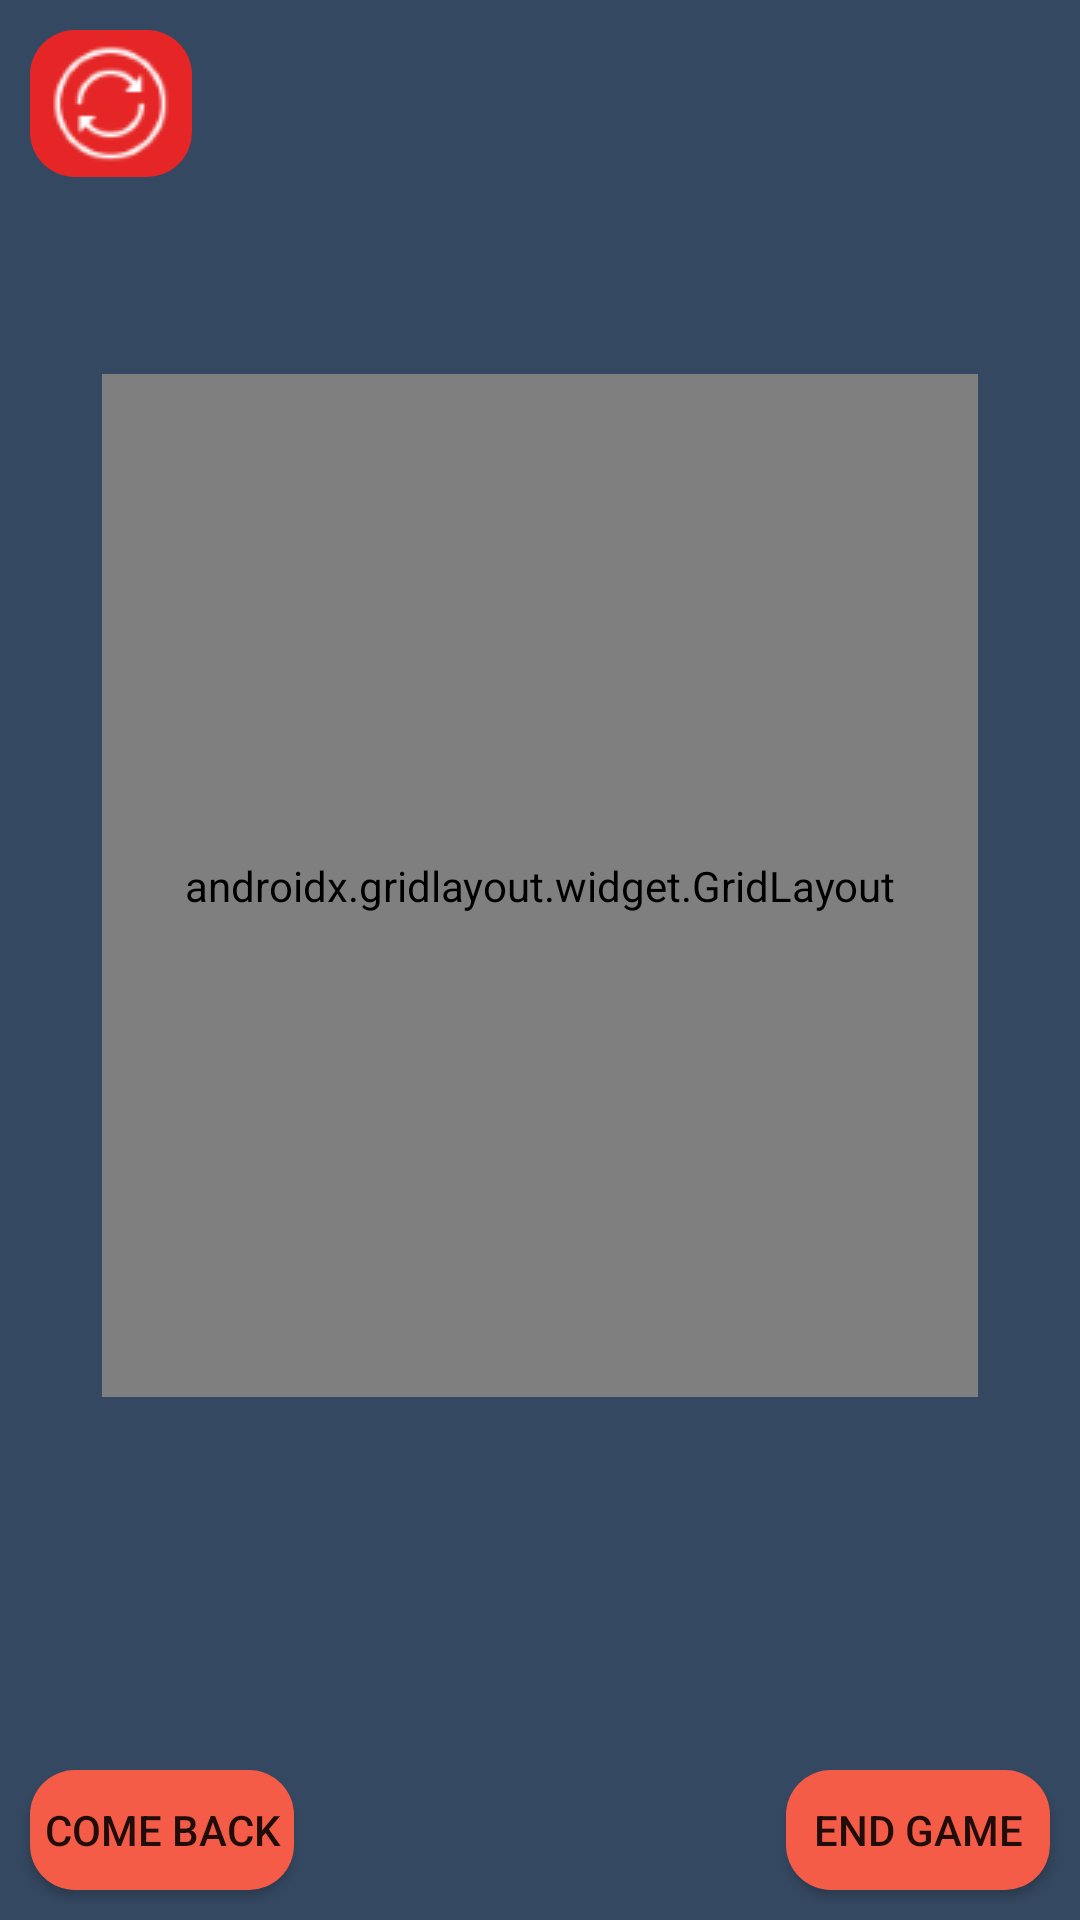

Icons on this 1080×1920 Android screen, each with the point to tap as (x,y):
Retry: (111,103)
